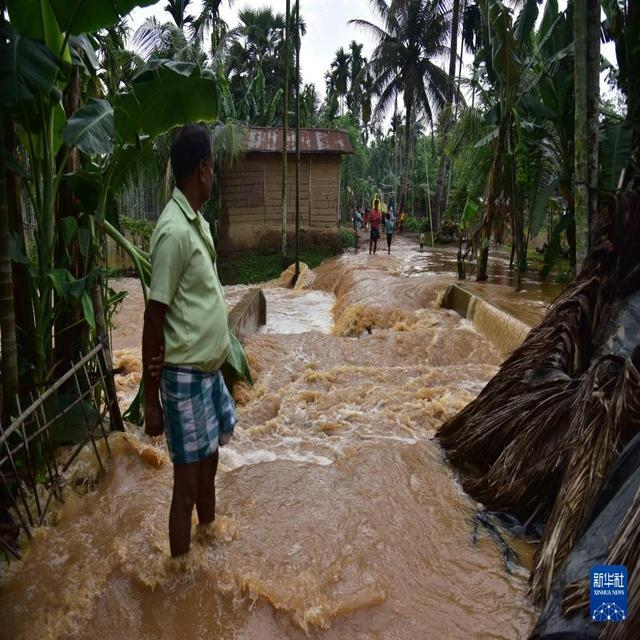Person-RiskLevel2: (130, 110, 245, 563), (340, 180, 413, 254)
